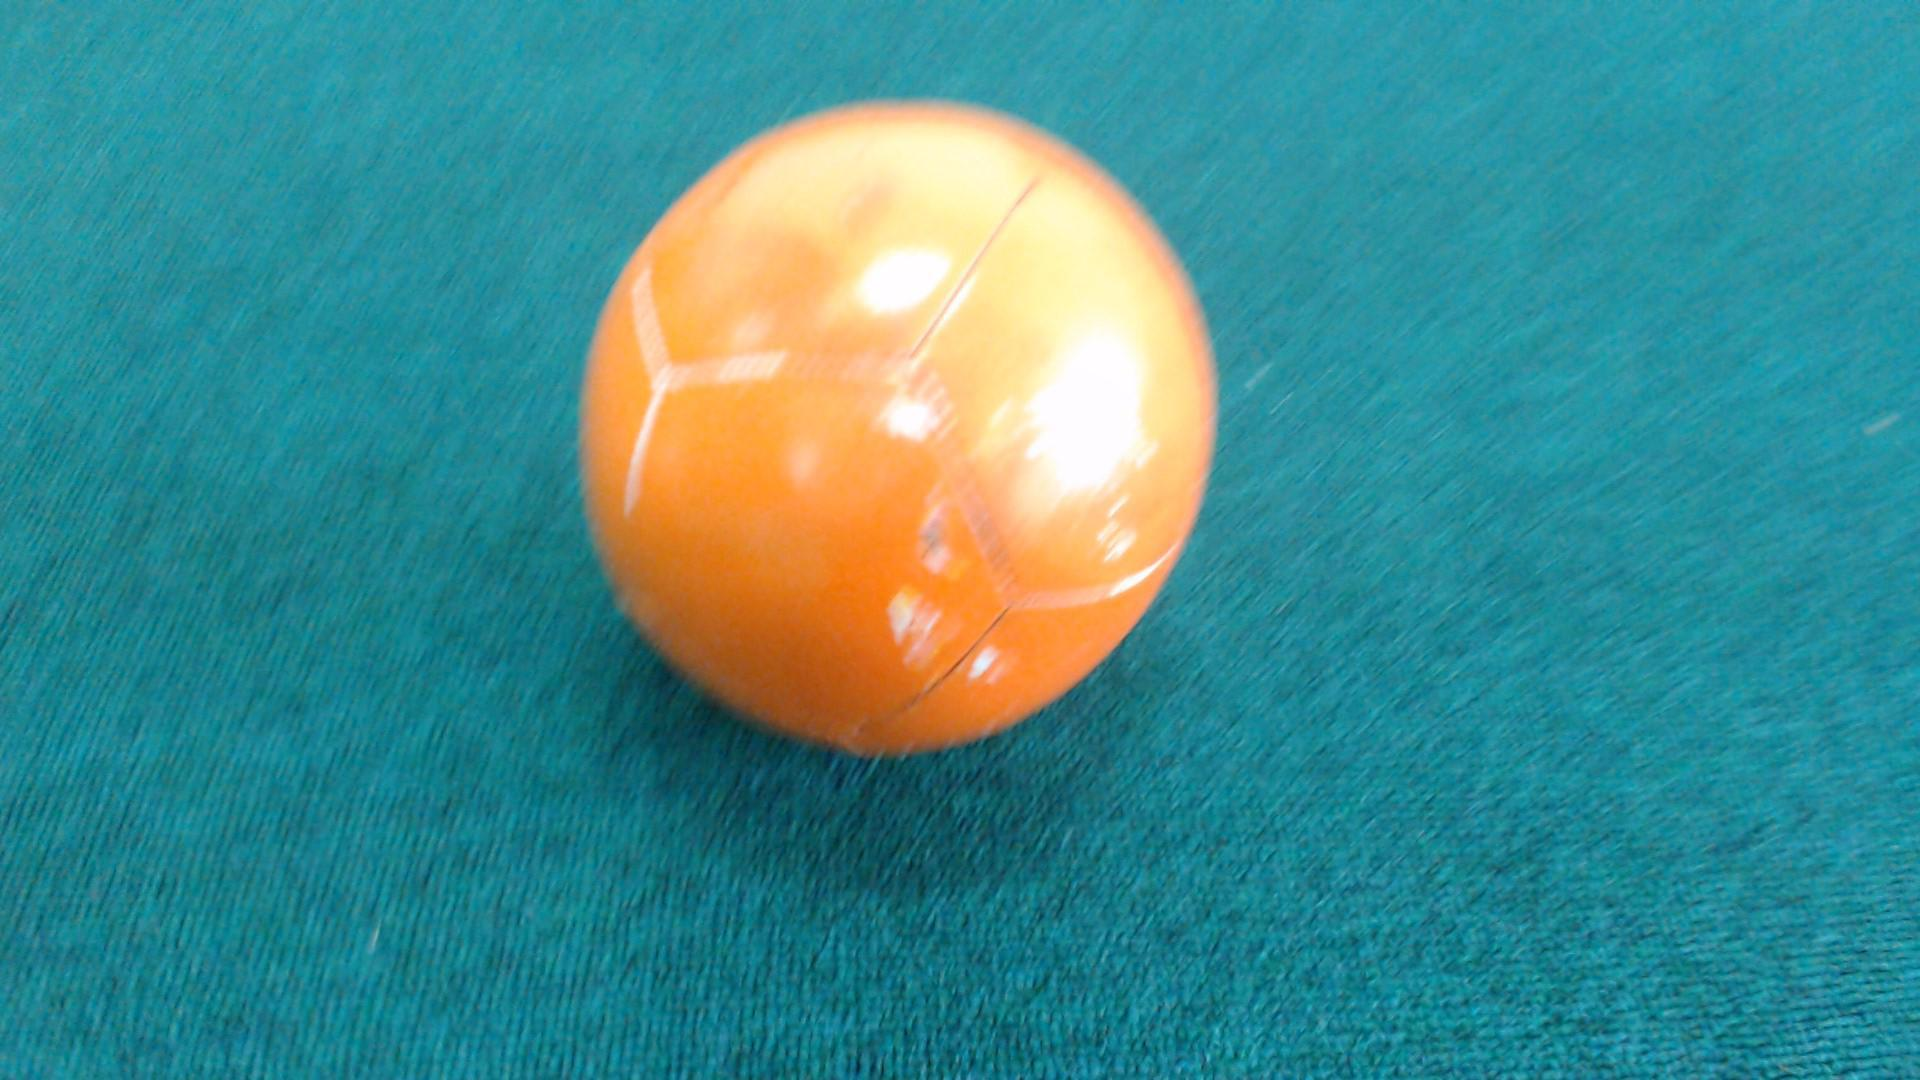bola: (545, 73, 1262, 786)
